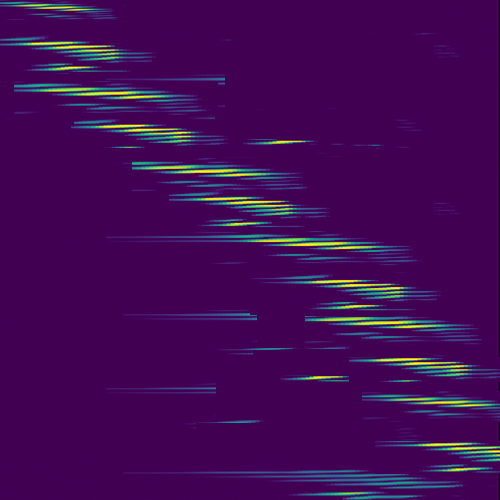semblance: (10, 35, 126, 72), (185, 194, 305, 229), (17, 79, 177, 104), (304, 276, 413, 311), (411, 439, 500, 476), (140, 157, 277, 181), (93, 119, 203, 144), (388, 391, 500, 415), (252, 235, 385, 254), (313, 315, 442, 333), (367, 355, 473, 376), (1, 2, 107, 12)
